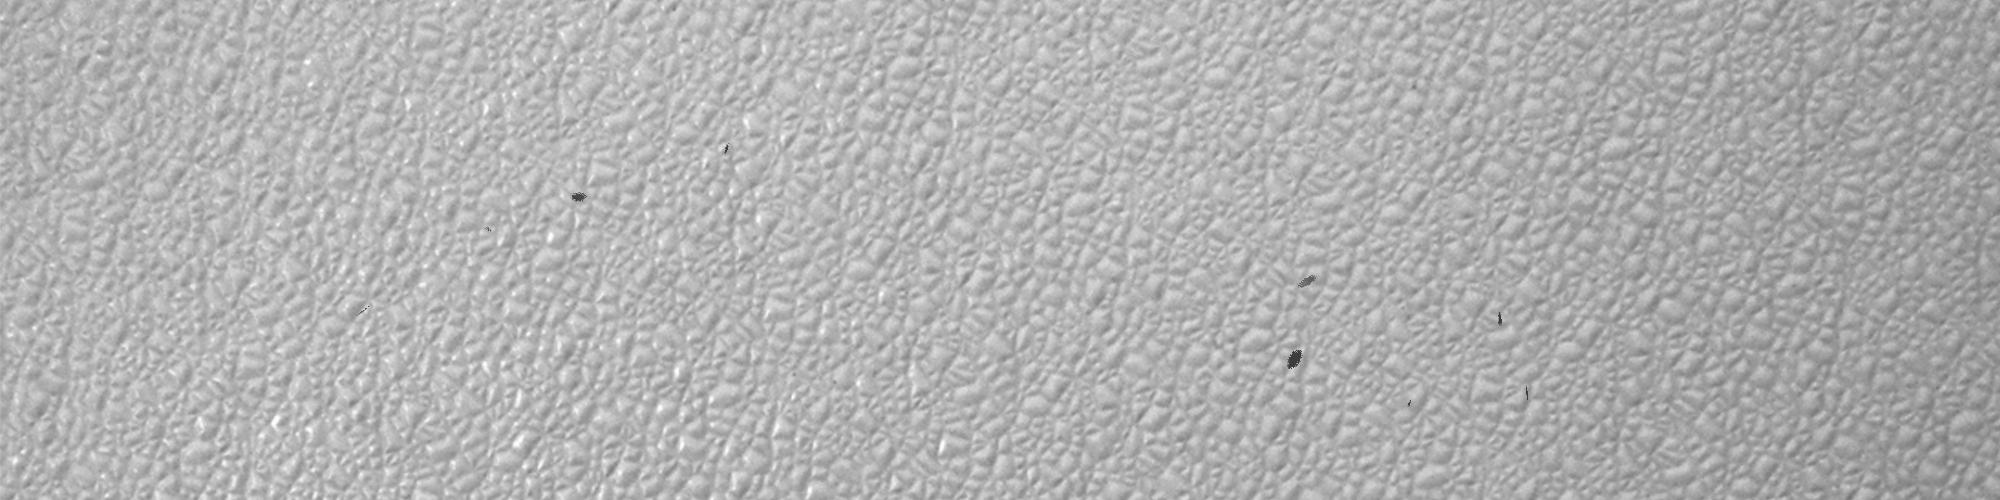Decomposed: (1292, 267, 1325, 297), (1281, 346, 1318, 372), (1517, 378, 1537, 411), (349, 302, 379, 318), (568, 190, 598, 204), (1494, 309, 1513, 329), (721, 135, 742, 153), (1402, 397, 1422, 413), (485, 219, 496, 235)
